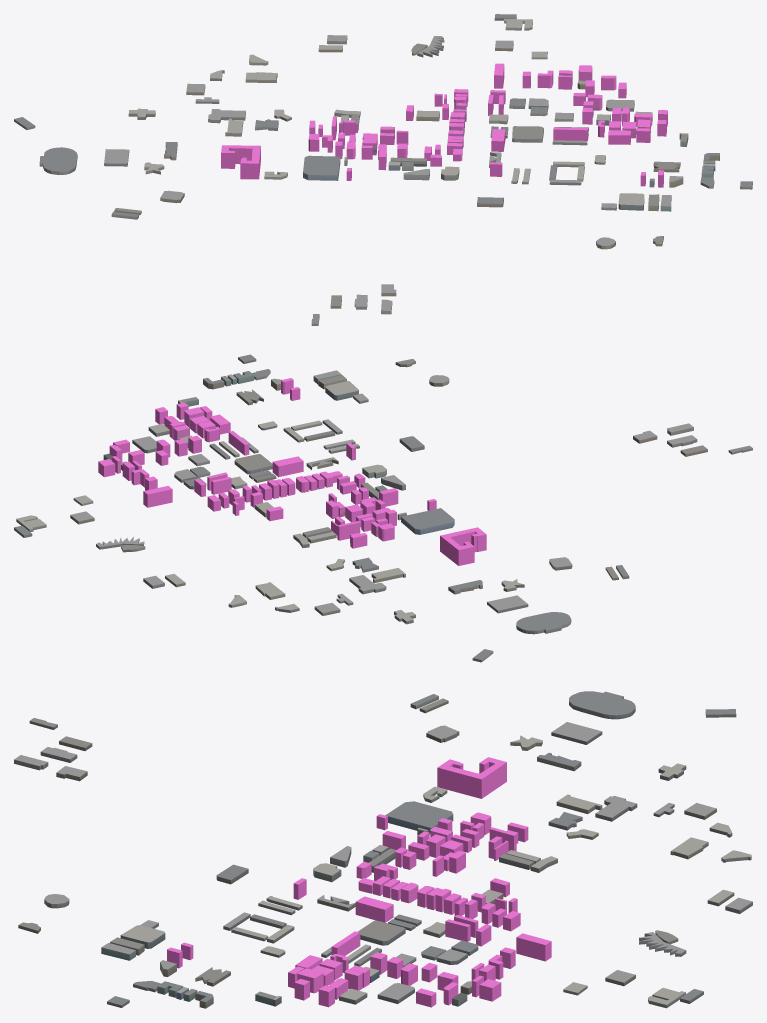
Rendered from bld_17_13.fbx.
3 renders of one model, top to bottom at view 1: azimuth 30°, elevation 25°; view 2: azimuth 150°, elevation 25°; view 3: azimuth 270°, elevation 25°, orthographic. The views are drawn at different scales.
Parts seen in each view (by area): view 1: bld_17_13_LOD0, bld_17_13_COL; view 2: bld_17_13_LOD0, bld_17_13_COL; view 3: bld_17_13_LOD0, bld_17_13_COL.
Part boxes in pixels (x1,y1,x2,y2): bld_17_13_LOD0: (14,14,752,325); bld_17_13_COL: (221,63,667,187); bld_17_13_LOD0: (14,354,752,662); bld_17_13_COL: (98,378,486,565); bld_17_13_LOD0: (14,691,752,1008); bld_17_13_COL: (167,757,551,1007).
Size of what is drawn, in the model's own units: 2062 by 60.02 by 2055.
